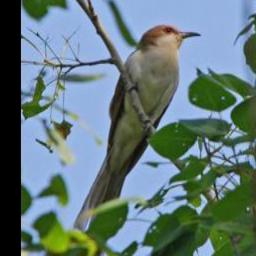Cuckoo: (68, 23, 202, 256)
